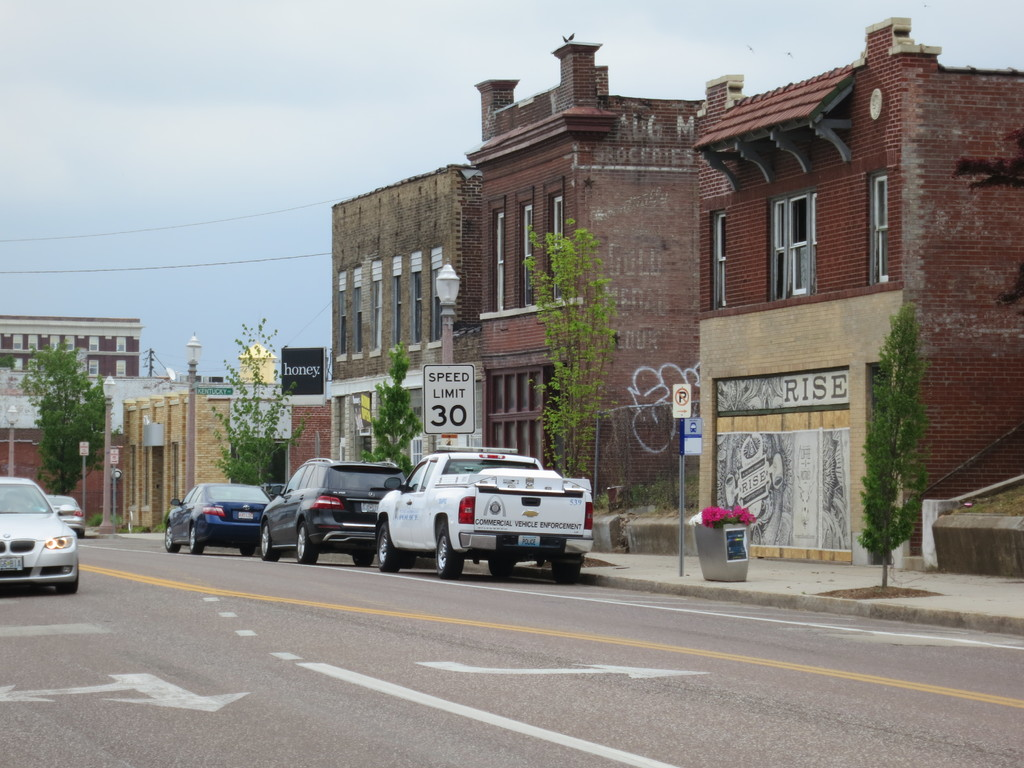Car: (260, 455, 409, 568), (0, 488, 74, 599), (163, 480, 269, 556), (32, 489, 85, 534)
